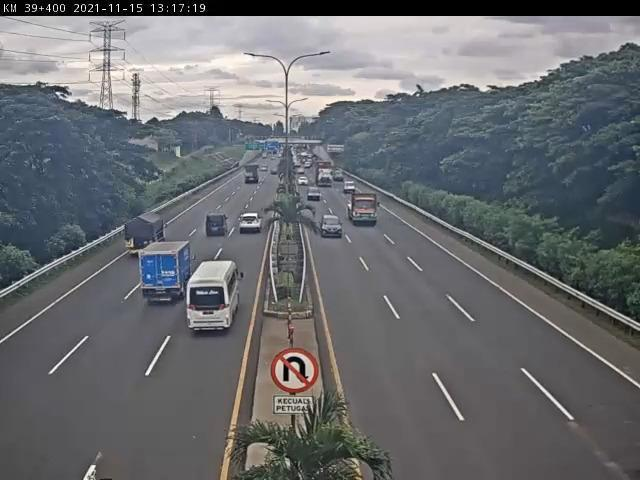bus: (187, 257, 243, 335)
car: (320, 212, 347, 240), (205, 211, 231, 239), (238, 212, 264, 235)
truck: (141, 241, 194, 305), (125, 213, 167, 261), (347, 191, 381, 227)
